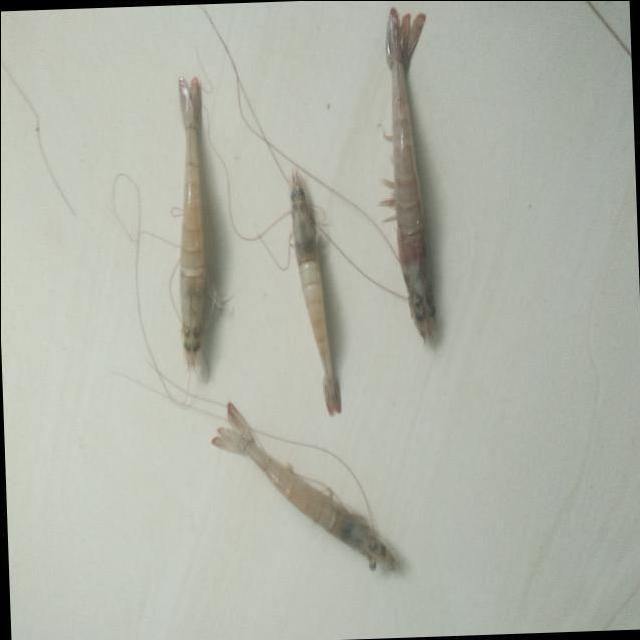shrimp: (211, 403, 397, 571), (380, 7, 436, 342), (290, 173, 341, 416), (179, 77, 205, 374)
